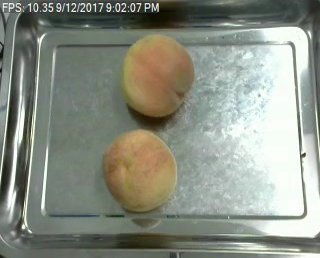Peach: (103, 128, 177, 211), (122, 33, 194, 117)
